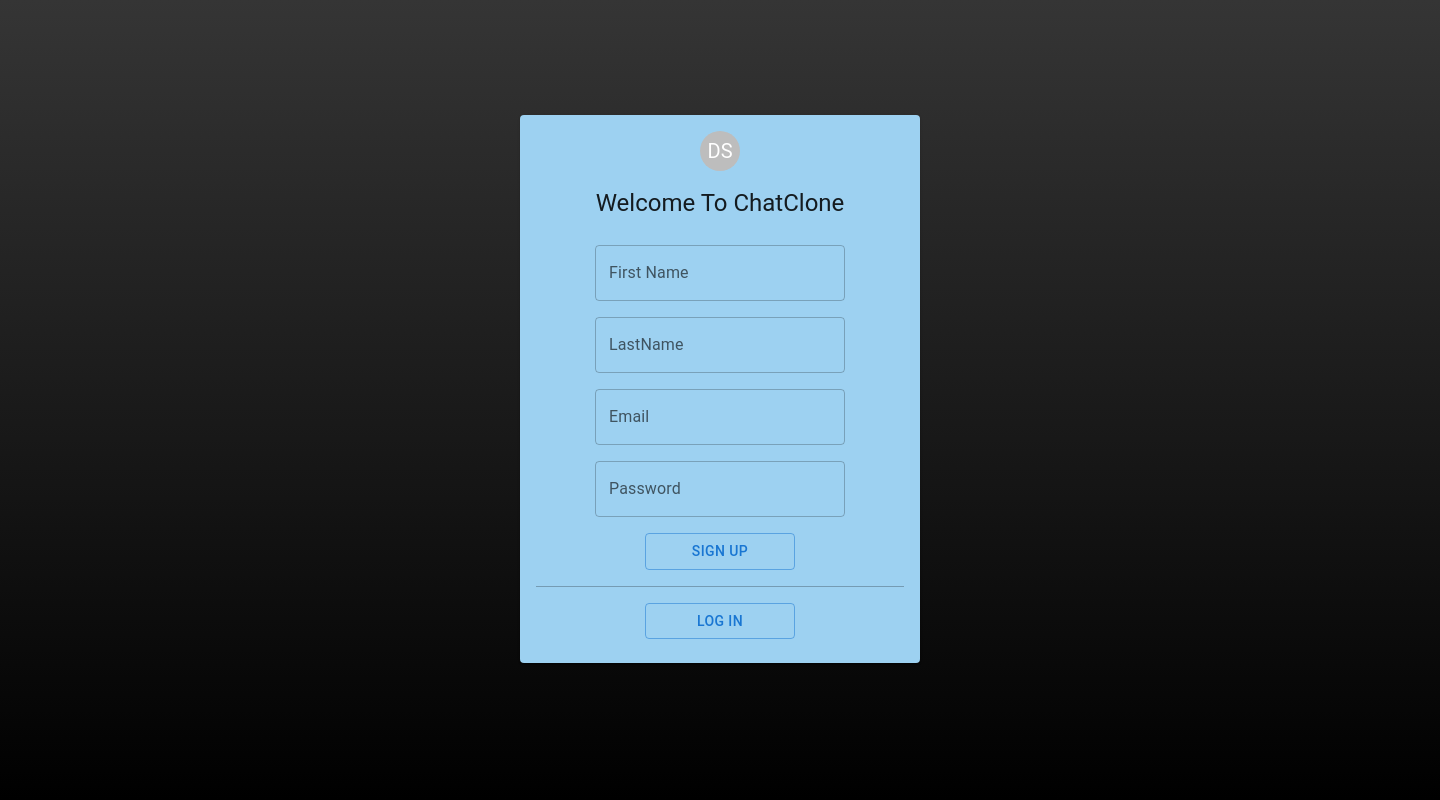
Test: Example Test Creating A User › Invalid Creation Data (invalid pw)
Type "Jason" into the element with test id "firstNameField" at coordinates (720, 273), box [595,245,845,301]
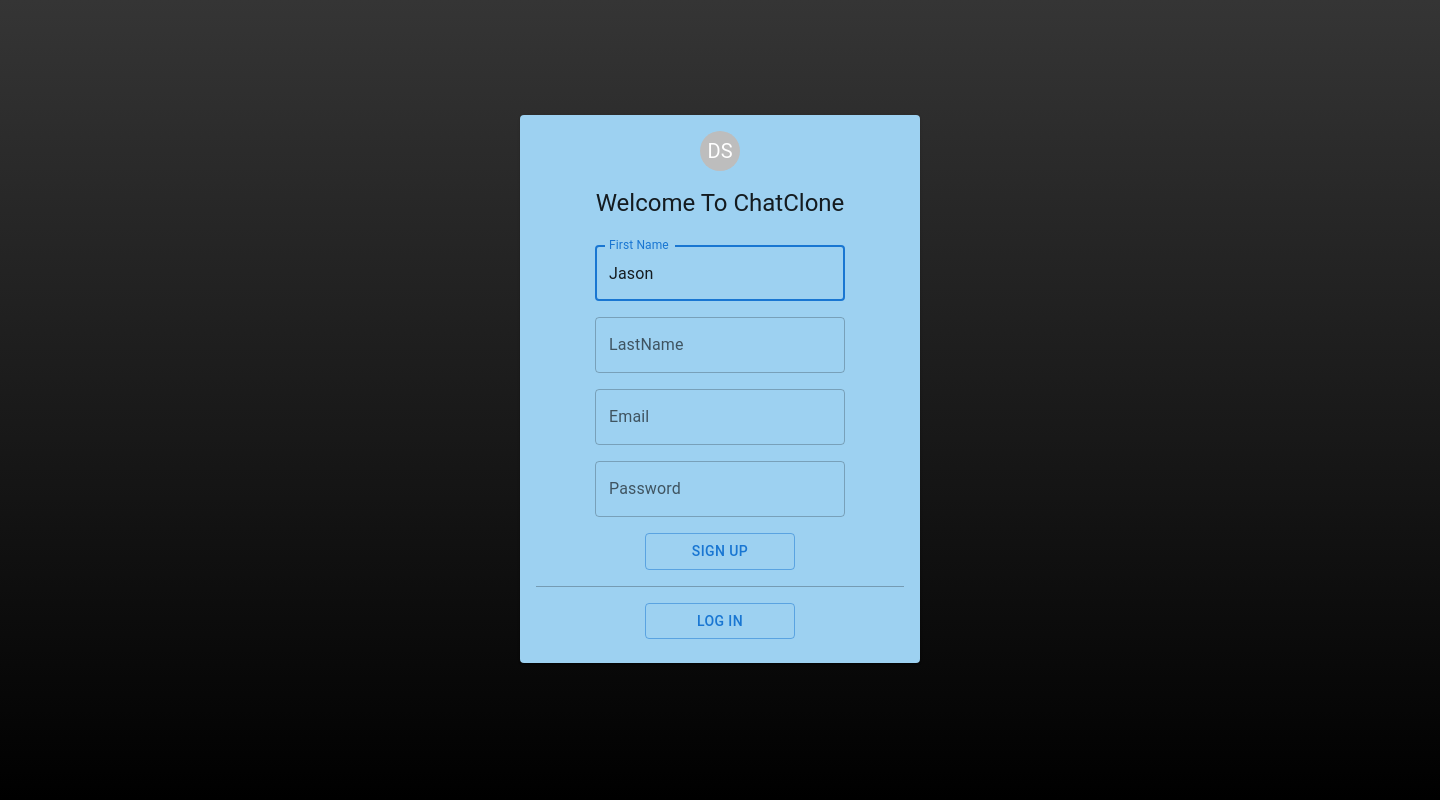
Type "Line" into the element with test id "lastNameField" at coordinates (720, 345), box [595,317,845,373]
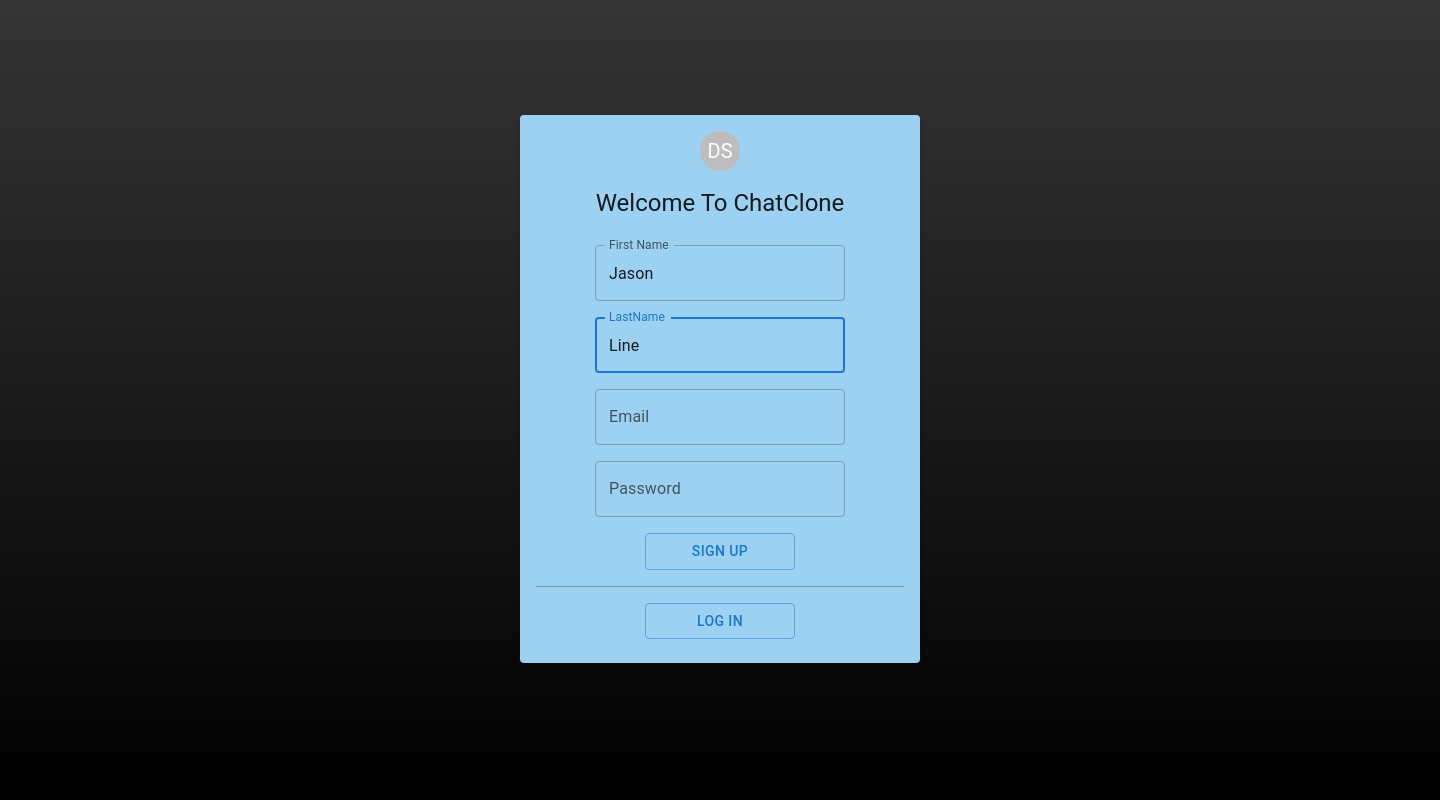
Type "JasonL@gmail.com" into the element with test id "emailField" at coordinates (720, 417), box [595,389,845,445]
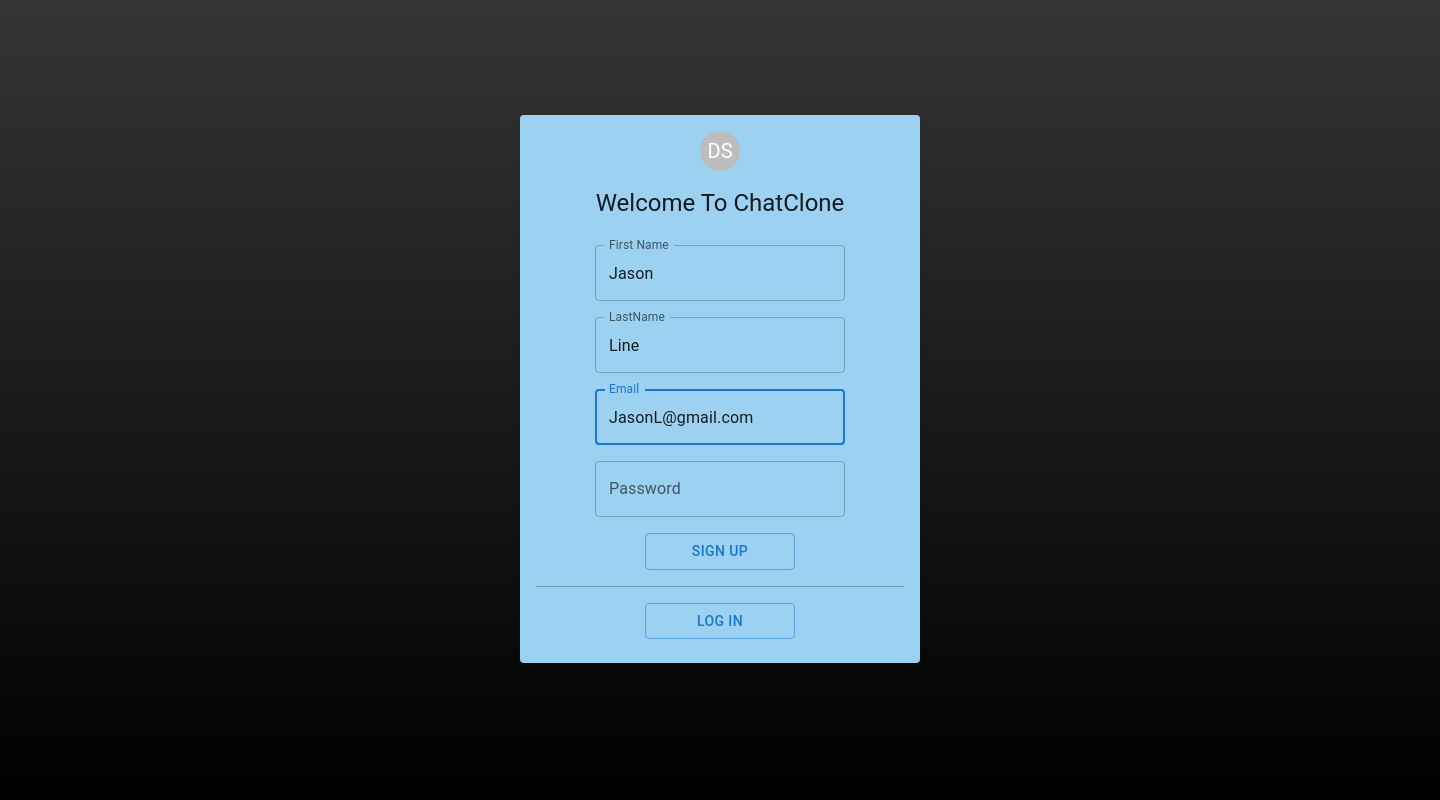
Type "Password" into the element with test id "passwordField" at coordinates (720, 489), box [595,461,845,517]
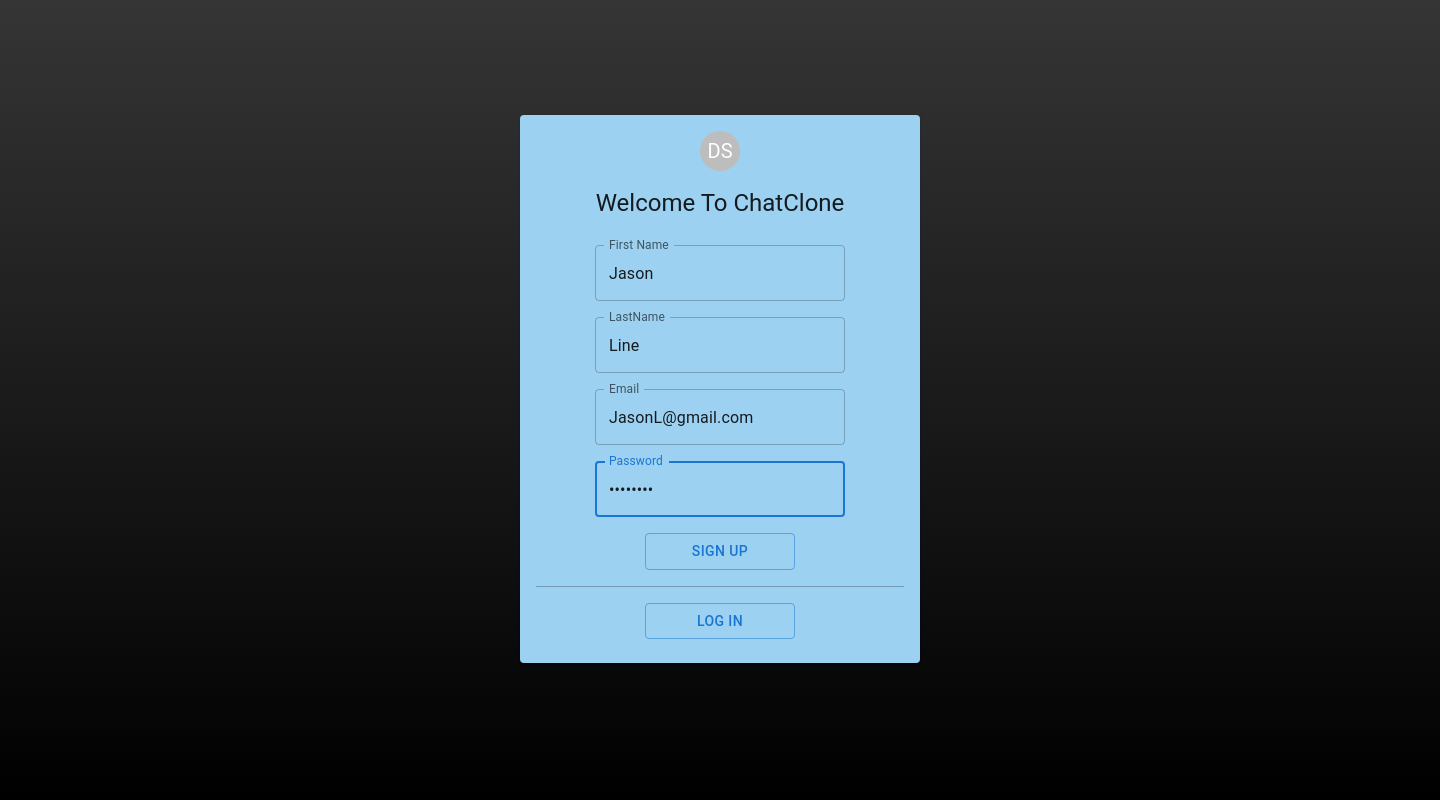
Click the button with test id "submitFormBtn" at coordinates (720, 552), box [645,533,795,570]
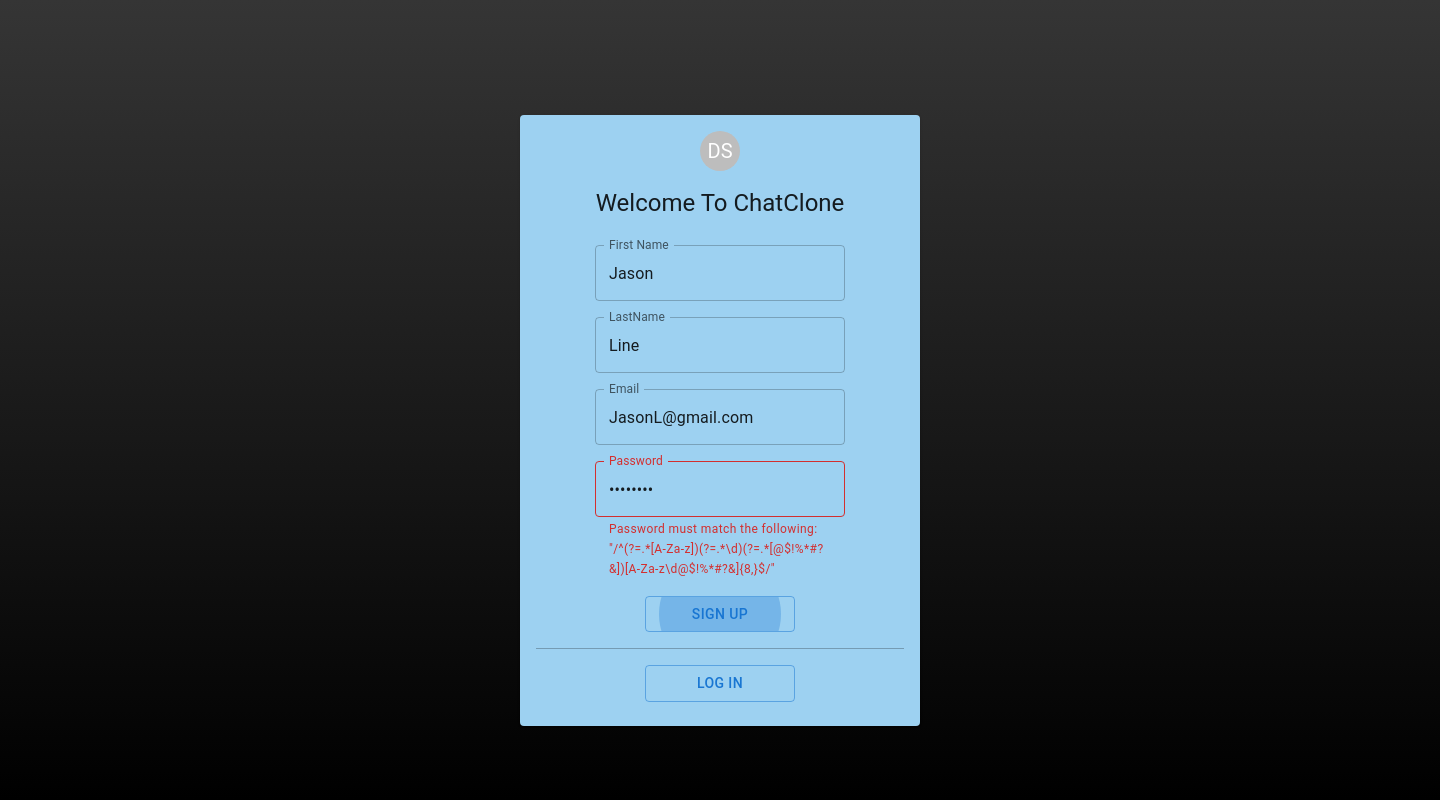
Check: the text "Password must match the following:" is shown, box [609,522,823,576]
